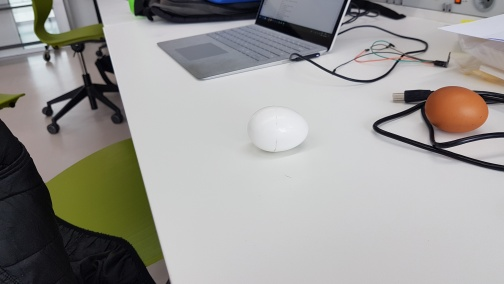egg: (422, 85, 492, 136), (245, 105, 311, 153)
